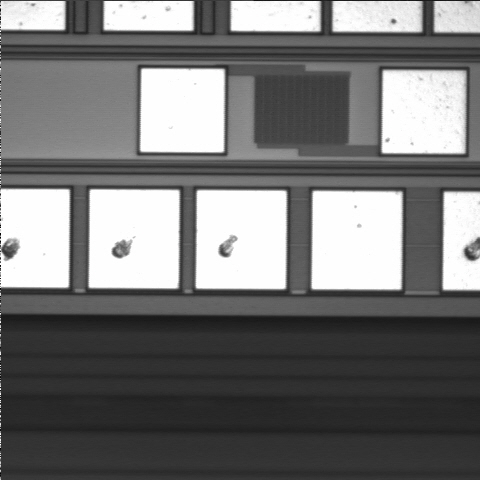pad: (196, 190, 286, 289), (89, 190, 179, 288), (312, 191, 402, 289), (140, 69, 224, 152), (382, 71, 465, 153)
